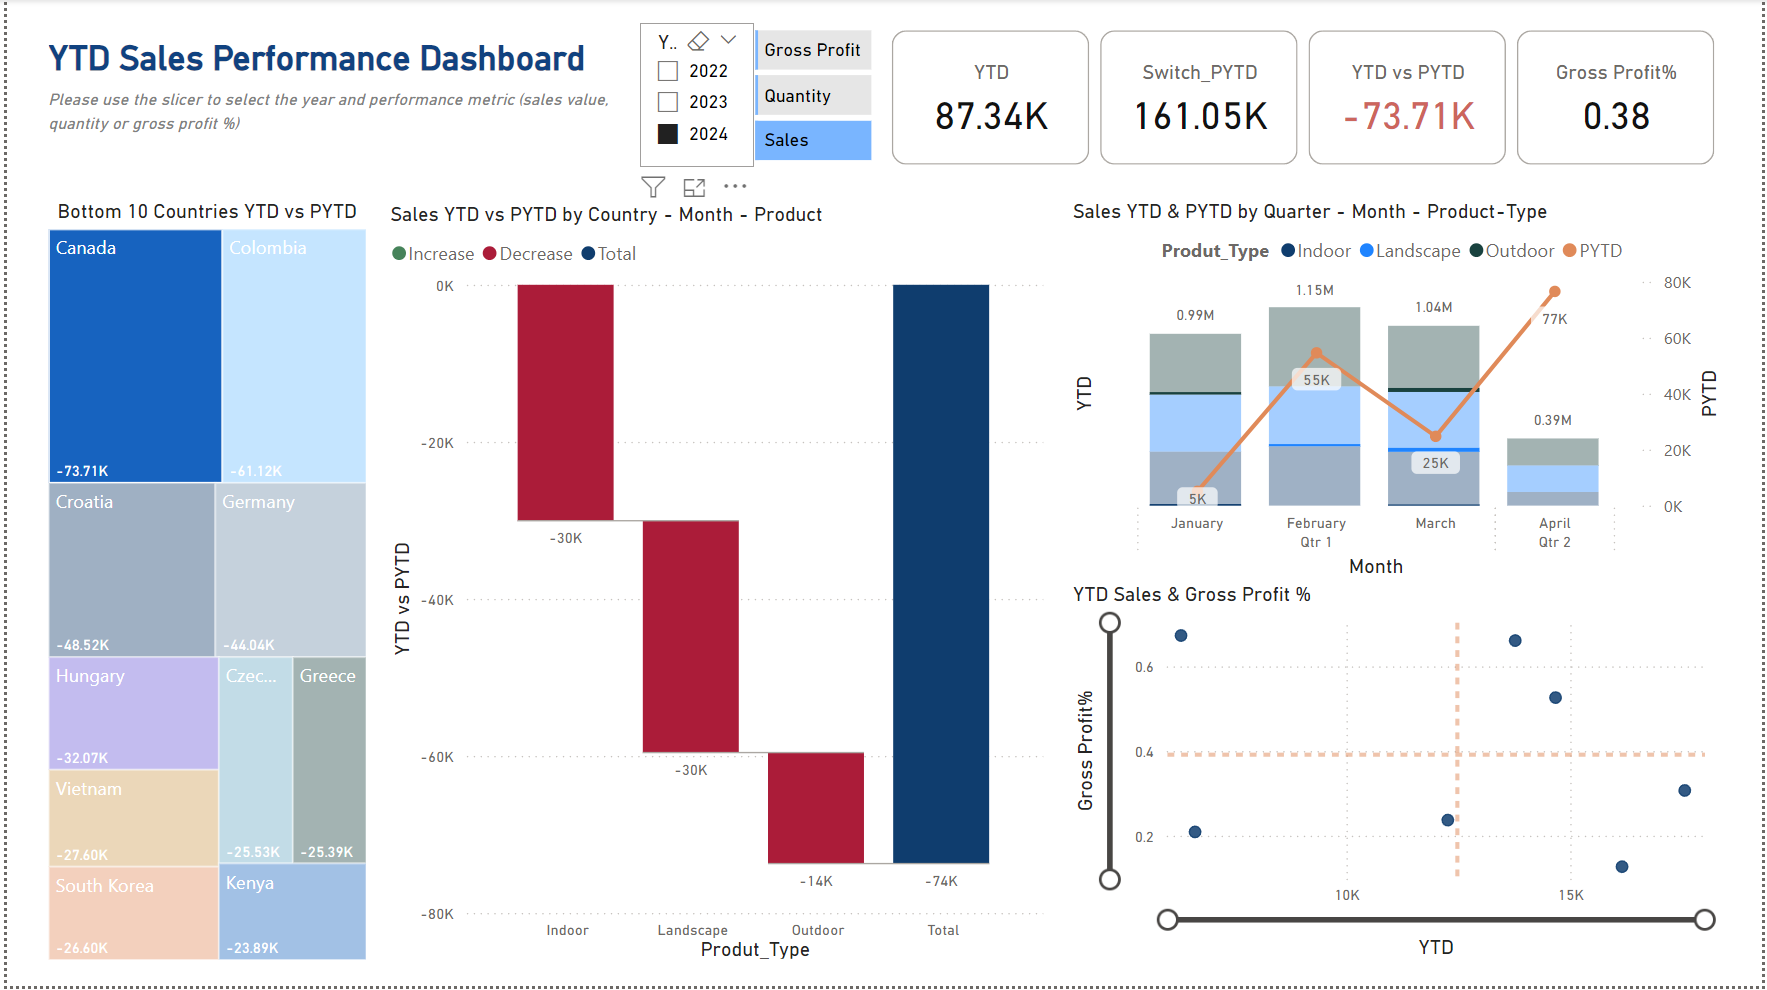

The dashboard page shown, as its layout file describes it:
{"tool":"powerbi","page":{"name":"Page 1","canvas":[1280,720],"ordinal":0},"visuals":[{"type":"cardVisual","fields":{"Data":["_Measures.Switch_YTD","_Measures.Switch_PYTD","_Measures.YTD vs PYTD","_Measures.Gross Profit%"]},"box":[640.2,17,612.8,108.4],"z":0},{"type":"advancedSlicerVisual","fields":{"Values":["Slicer_VALS.Values"]},"box":[540.9,17,95.4,107.1],"z":1000},{"type":"slicer","fields":{"Values":["Dim_Date.Date.Variation.Date Hierarchy.Year"]},"box":[461.2,17,83.6,105.8],"z":2000},{"type":"treemap","title":"Bottom 10 Countries YTD vs PYTD","fields":{"Values":["_Measures.YTD vs PYTD"],"Group":["Dim_Accounts.Country"]},"box":[24.8,146.3,241.7,559.2],"z":3000},{"type":"waterfallChart","fields":{"Y":["_Measures.YTD vs PYTD"],"Category":["Dim_Date.Date.Variation.Date Hierarchy.Month","Dim_Accounts.Country","Dim_Product.Produt_Type","Dim_Product.Product_Name"]},"box":[274.4,149,486,556.6],"z":4000},{"type":"lineStackedColumnComboChart","fields":{"Y":["_Measures.Switch_YTD"],"Y2":["_Measures.Switch_PYTD"],"Category":["Dim_Date.Date.Variation.Date Hierarchy.Quarter","Dim_Date.Date.Variation.Date Hierarchy.Month"],"Series":["Dim_Product.Produt_Type"]},"box":[772.2,146.3,480.8,279.6],"z":5000},{"type":"scatterChart","fields":{"X":["_Measures.Switch_YTD"],"Y":["_Measures.Gross Profit%"],"Category":["Dim_Accounts.Account"]},"box":[772.2,425.9,480.8,278.3],"z":6000},{"type":"textbox","title":"YTD Sales Performance Dashboard","box":[24.8,28.7,423.3,84.9],"z":7000}]}

Visuals, with their boxes in screenshot pixels (x1, y1, x2, y2), scaled from the page's 1280x720 canvas onto the 1767x990 screenshot:
cardVisual - _Measures.Switch_YTD x _Measures.Switch_PYTD: l=884, t=23, r=1730, b=172
advancedSlicerVisual - Slicer_VALS.Values: l=747, t=23, r=878, b=171
slicer - Dim_Date.Date.Variation.Date Hierarchy.Year: l=637, t=23, r=752, b=169
"Bottom 10 Countries YTD vs PYTD" treemap: l=34, t=201, r=368, b=970
waterfallChart - _Measures.YTD vs PYTD x Dim_Date.Date.Variation.Date Hierarchy.Month: l=379, t=205, r=1050, b=970
lineStackedColumnComboChart - _Measures.Switch_YTD x _Measures.Switch_PYTD: l=1066, t=201, r=1730, b=586
scatterChart - _Measures.Switch_YTD x _Measures.Gross Profit%: l=1066, t=586, r=1730, b=968
"YTD Sales Performance Dashboard" textbox: l=34, t=39, r=619, b=156
